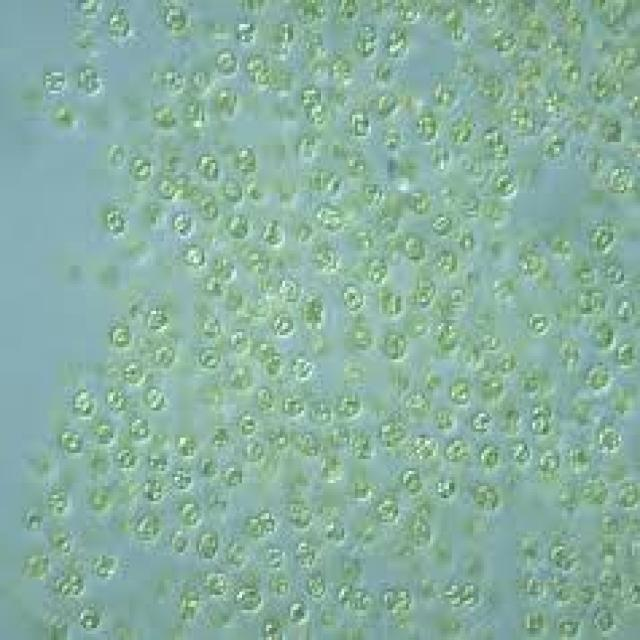Blue Green Algae: (312, 197, 344, 236), (231, 582, 264, 616), (258, 214, 288, 250), (411, 432, 441, 468), (368, 88, 401, 120), (223, 208, 253, 242), (586, 220, 616, 253), (524, 308, 554, 341), (605, 163, 635, 196), (382, 326, 409, 362), (586, 360, 613, 396), (75, 64, 105, 96), (371, 492, 403, 522), (204, 570, 232, 604), (180, 238, 207, 272), (597, 422, 624, 456), (105, 9, 132, 42), (347, 106, 374, 139), (196, 151, 223, 184), (100, 206, 129, 236), (514, 248, 543, 278), (73, 601, 102, 631), (215, 84, 239, 120), (293, 538, 317, 574), (400, 232, 428, 262), (72, 387, 96, 422), (333, 392, 363, 420), (290, 354, 318, 384), (379, 287, 404, 320), (245, 54, 269, 88), (41, 66, 68, 96), (129, 151, 156, 181), (102, 386, 129, 416), (196, 341, 223, 371), (414, 109, 438, 142), (146, 302, 170, 335), (342, 281, 366, 314), (212, 48, 240, 76), (57, 429, 86, 456), (46, 486, 75, 513), (592, 604, 618, 634), (162, 66, 188, 96), (495, 169, 516, 205), (172, 432, 199, 459), (535, 447, 562, 474), (180, 498, 202, 531), (162, 6, 186, 36), (277, 275, 301, 305), (272, 311, 296, 341), (602, 260, 626, 290), (134, 510, 158, 540), (398, 465, 422, 495), (108, 323, 134, 350), (385, 28, 406, 61), (170, 208, 193, 238), (170, 462, 193, 492), (530, 410, 554, 438), (234, 145, 258, 172), (406, 188, 430, 215), (226, 329, 253, 353), (479, 441, 503, 468), (433, 471, 457, 498), (113, 444, 137, 471), (140, 474, 164, 501), (522, 607, 546, 634), (363, 253, 387, 280), (511, 438, 532, 468), (237, 410, 258, 440), (323, 516, 344, 546), (444, 435, 465, 465), (298, 82, 322, 108), (546, 544, 570, 570), (256, 508, 280, 534), (449, 380, 471, 408), (280, 392, 304, 417), (471, 410, 492, 438), (430, 212, 454, 236), (285, 598, 309, 622), (360, 181, 384, 205), (355, 21, 382, 42), (143, 384, 164, 411), (234, 21, 255, 45), (482, 124, 506, 145), (124, 359, 142, 386), (616, 341, 634, 368)
